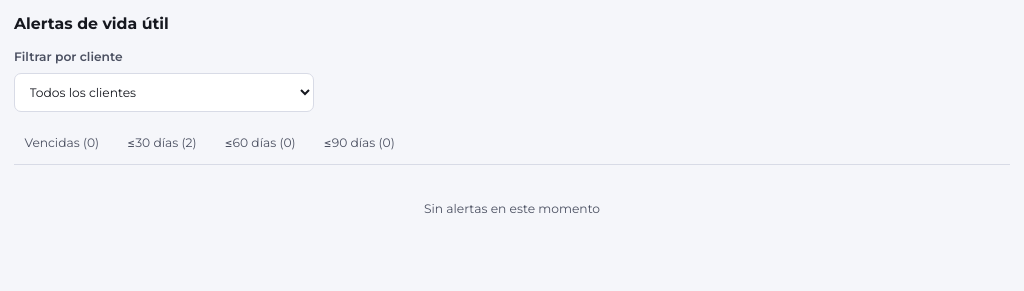
Scenario: AlertasPage › en ≤30 días indica cuántos días faltan (singular y plural)
Click the button "≤30 días (2)".
click(162, 145)  # box [117,126,207,164]
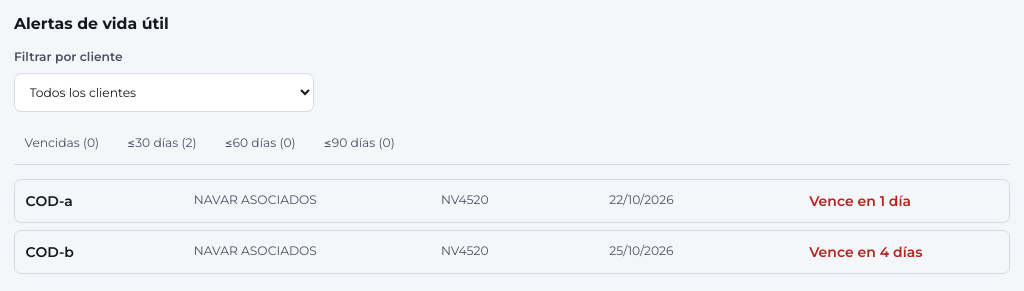
Expected: the text "Vence en 1 día" is shown, [809,192,911,210]
Expected: the text "Vence en 4 días" is shown, [809,243,922,261]
